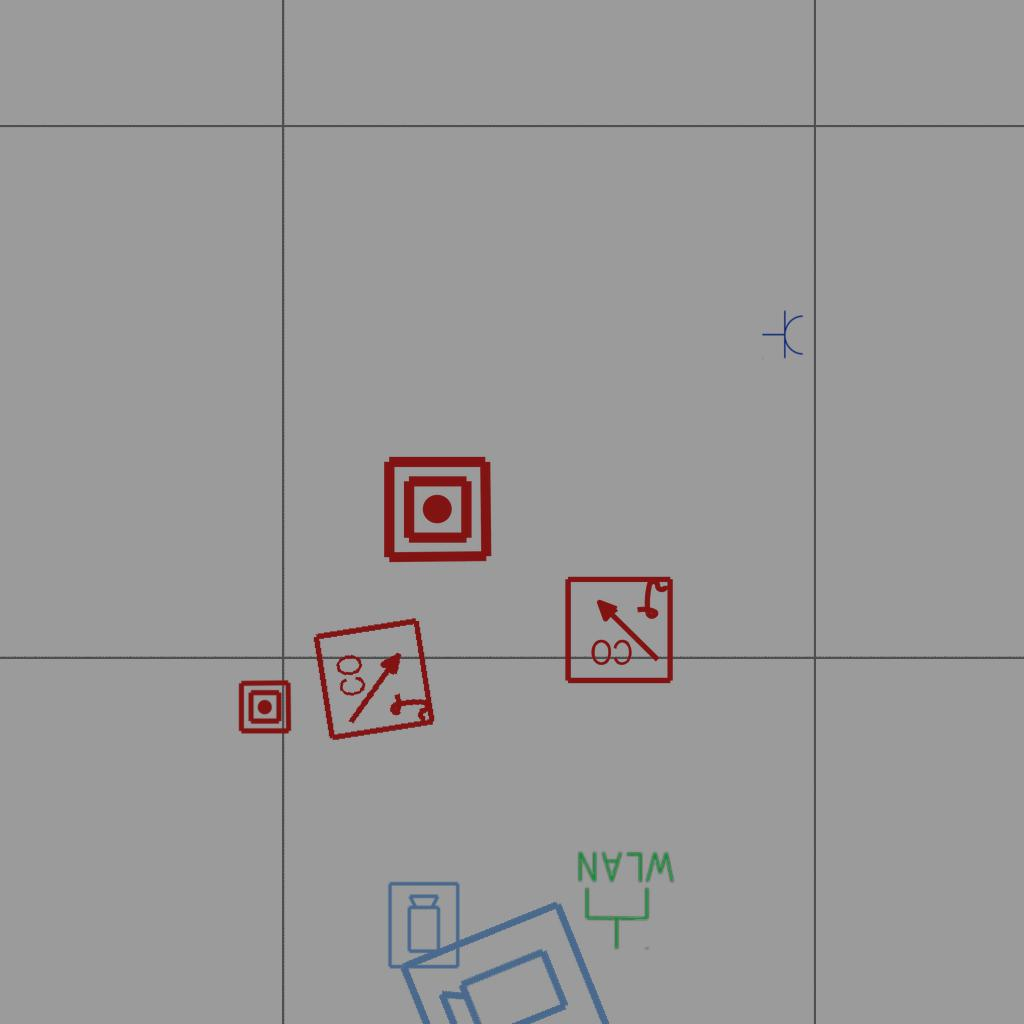KFO_Kamera_mit_Festobjektiv: (392, 891, 620, 1024), (386, 880, 463, 971)
NAM-Nichtautomatischer_Melder: (381, 453, 494, 566), (237, 679, 293, 735)
ROA_Rauchmelder_optisch_mit_Signalgeber_(Sockelsirene): (310, 613, 441, 744), (562, 572, 675, 685)
Schukosteckdose_einfach: (762, 310, 805, 360)
WLAN: (574, 848, 679, 952)
